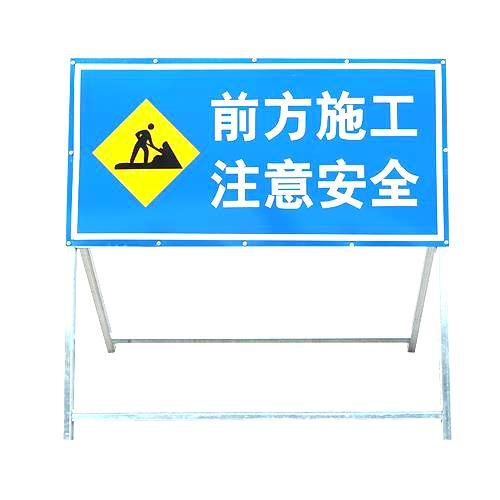sign: (70, 58, 449, 245)
